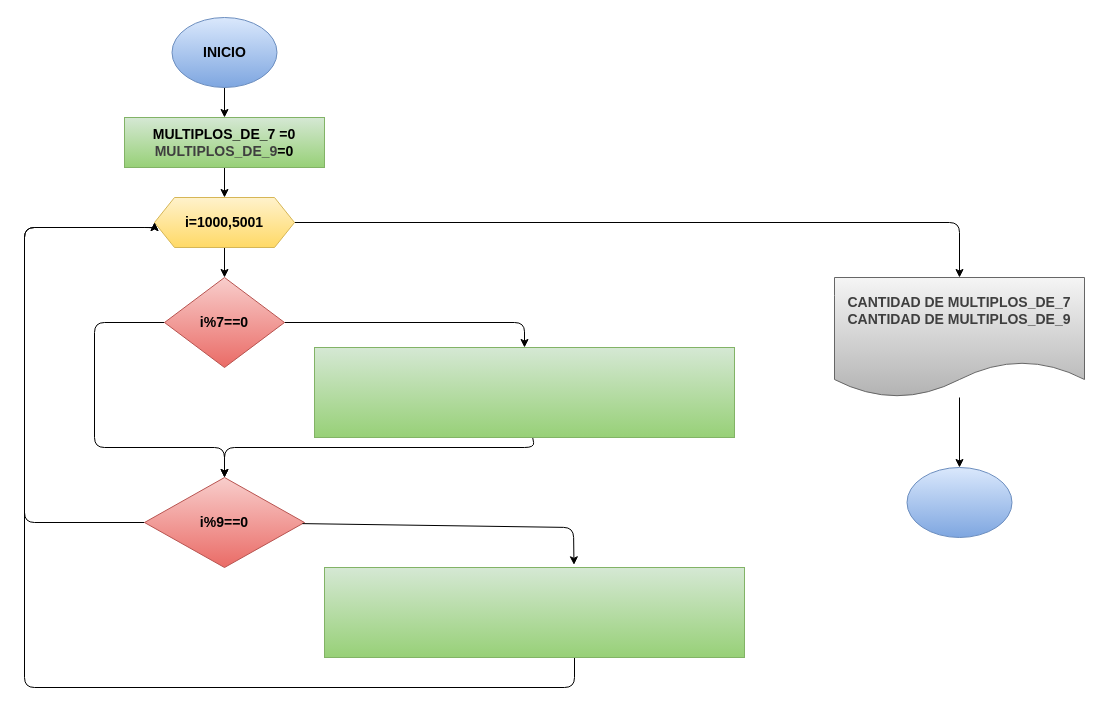
Image size: 1102x713. Some labels were removed from this diagram. The shapes that lost their labels are listed below. From the top down, each one's centre as x and y in pixels, then its label:
At (x=524, y=392): "CANTIDAD DE MULTIPLOS_DE_7 = CANTIDAD DE MULTIPLOS_DE_7 +1".
At (x=959, y=502): "FIN".
At (x=534, y=612): "CANTIDAD DE MULTIPLOS_DE_9 = CANTIDAD DE MULTIPLOS_DE_9 +1".
